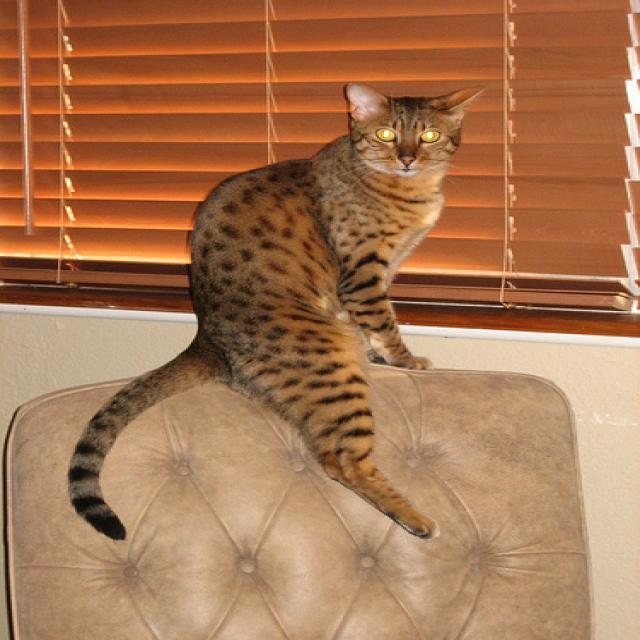Egyptian_Mau: (343, 84, 483, 176)
